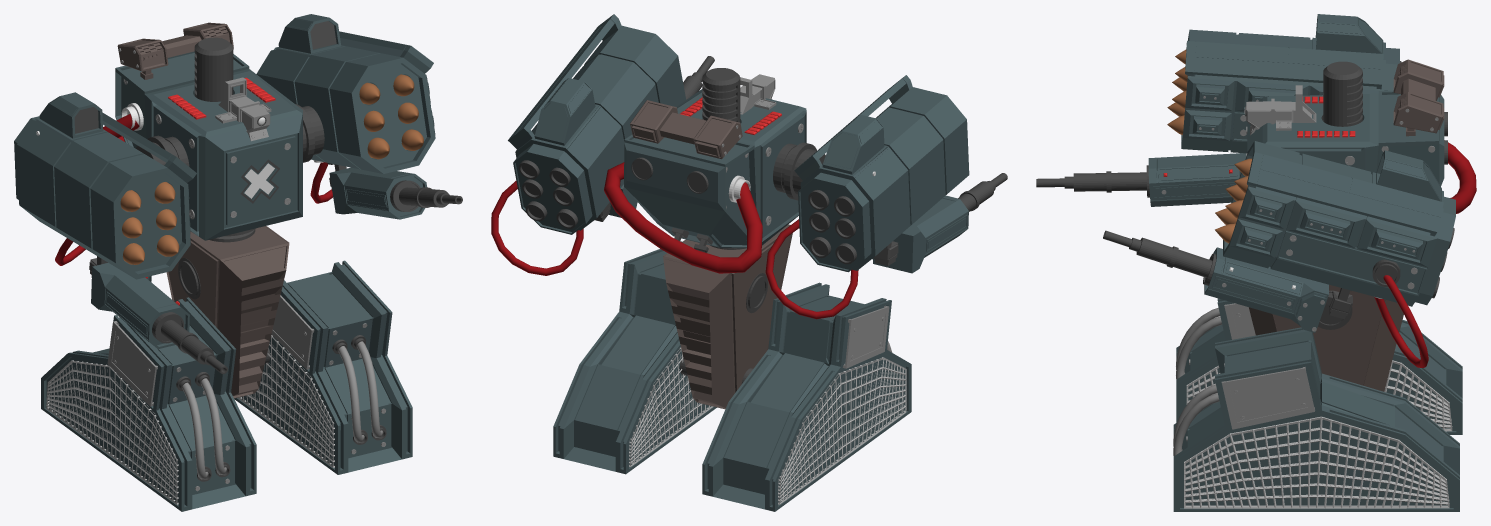
The model's file is MissleTurret.fbx.
3 renders of one model, left to right at view 1: azimuth 30°, elevation 25°; view 2: azimuth 150°, elevation 25°; view 3: azimuth 270°, elevation 25°, orthographic. The views are drawn at different scales.
Parts seen in each view (by area): view 1: Cube.003, Cube.002, Cube.030, Cube, Cube.024, Cube.001, Plane.005, Plane.001, Cube.032, Cube.027, Cube.023, Plane.007 (+11 smaller); view 2: Cube.002, Cube.030, Cube.024, Cube, Cube.003, Cube.001, Plane.005, BezierCurve.004, Cube.023, Cube.032, Plane.001, Plane.007 (+6 smaller); view 3: Cube, Cube.024, Cube.030, Plane, Cube.003, Cube.001, Cube.002, Cube.027, Cube.032, Plane.002, Cube.023, Plane.004 (+10 smaller).
Part boxes in pixels (x1,y1,x2,y2): Cube.003: (115,37,302,240); Cube.002: (41,297,256,511); Cube.030: (14,92,196,279); Cube: (234,260,412,474); Cube.024: (256,14,435,173); Cube.001: (166,226,289,398); Plane.005: (46,360,178,504); Plane.001: (237,335,334,467); Cube.032: (91,263,189,349); Cube.027: (329,167,426,219); Cube.023: (117,22,233,79); Plane.007: (107,321,157,406); Cube.002: (702,282,911,511); Cube.030: (794,75,969,272); Cube.024: (508,14,686,234); Cube: (553,249,716,474); Cube.003: (624,68,806,248); Cube.001: (663,224,792,409); Plane.005: (778,357,906,504); BezierCurve.004: (604,162,762,273); Cube.023: (630,100,742,159); Cube.032: (872,195,968,273); Plane.001: (629,347,713,466); Plane.007: (843,306,889,368); Cube: (1173,327,1459,511); Cube.024: (1223,141,1455,306); Cube.030: (1181,14,1399,153); Plane: (1184,416,1449,508); Cube.003: (1247,61,1444,186); Cube.001: (1249,284,1403,391); Cube.002: (1176,298,1462,434); Cube.027: (1204,247,1328,332); Cube.032: (1148,153,1246,206); Plane.002: (1221,367,1314,429); Cube.023: (1393,59,1444,136); Plane.004: (1186,360,1452,431).
Bounding box in the file's own units: 175 × 169 × 174.
